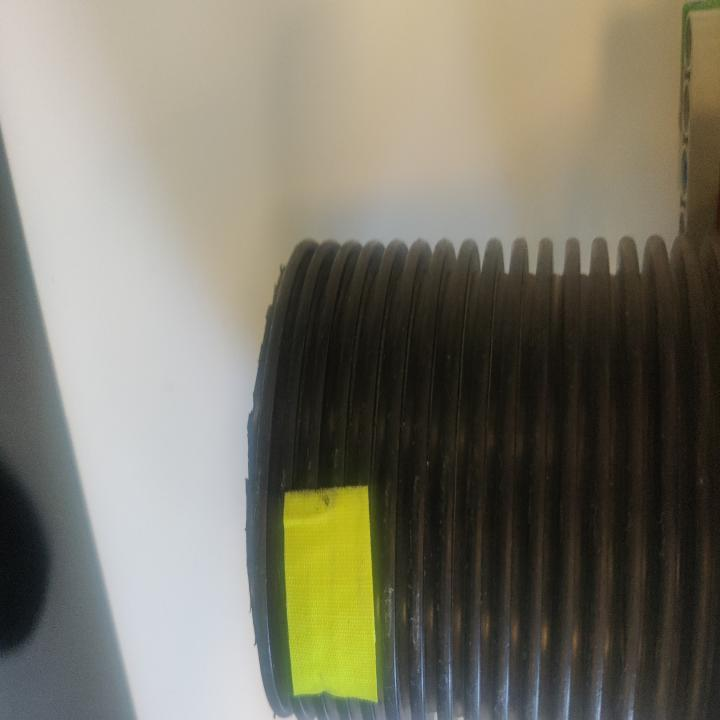robot-front: (252, 256, 718, 717)
